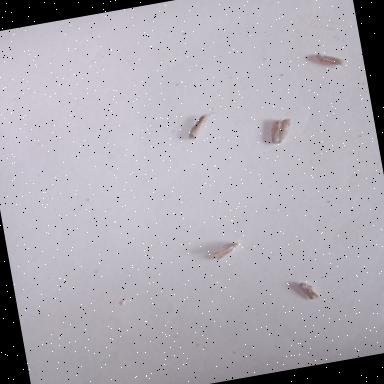pbw: (184, 111, 220, 141), (267, 116, 294, 146), (314, 48, 345, 70), (210, 242, 242, 262), (296, 279, 320, 302)
